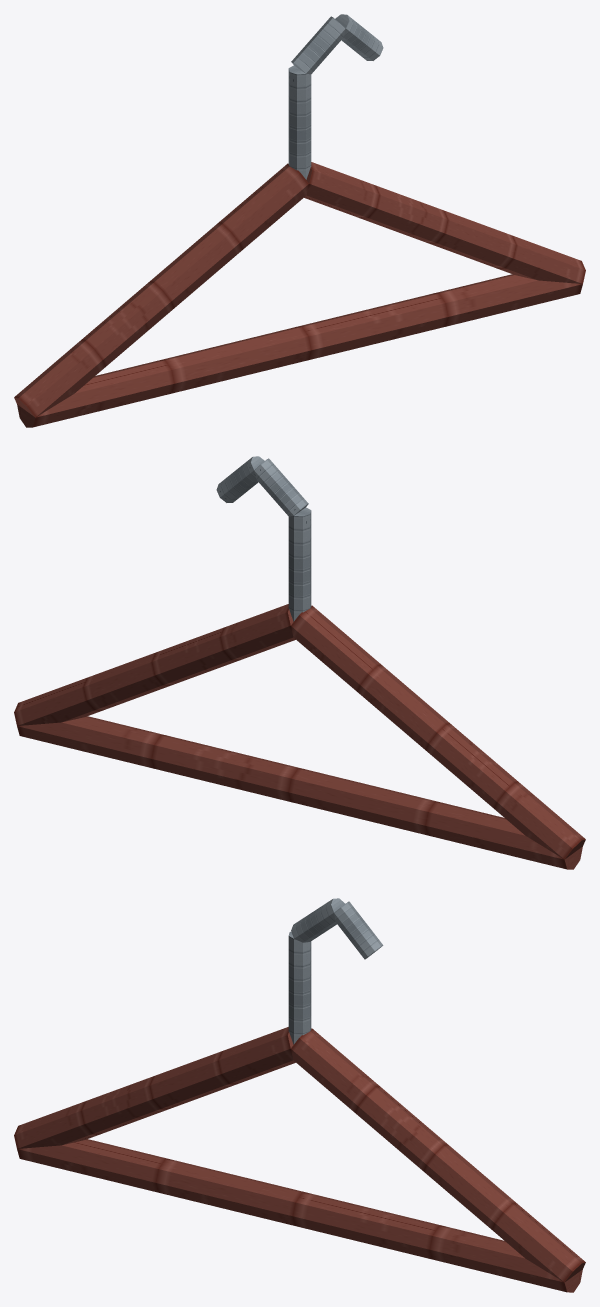
The model's file is MD_84_ClothesHanger.fbx.
The picture shows the model from 3 angles, top to bottom: view 1: azimuth 30°, elevation 25°; view 2: azimuth 150°, elevation 25°; view 3: azimuth 330°, elevation 25°; orthographic projection.
Visible parts, largest first — view 1: MD_84_ClothesHanger_clothes_hanger_2, MD_84_ClothesHanger_clothes_hanger_0, MD_84_ClothesHanger_clothes_hanger_1, MD_84_ClothesHanger_hanger_hook_0, MD_84_ClothesHanger_hanger_hook_1, MD_84_ClothesHanger_hanger_hook_2; view 2: MD_84_ClothesHanger_clothes_hanger_2, MD_84_ClothesHanger_clothes_hanger_0, MD_84_ClothesHanger_clothes_hanger_1, MD_84_ClothesHanger_hanger_hook_0, MD_84_ClothesHanger_hanger_hook_1, MD_84_ClothesHanger_hanger_hook_2; view 3: MD_84_ClothesHanger_clothes_hanger_2, MD_84_ClothesHanger_clothes_hanger_1, MD_84_ClothesHanger_clothes_hanger_0, MD_84_ClothesHanger_hanger_hook_0, MD_84_ClothesHanger_hanger_hook_2, MD_84_ClothesHanger_hanger_hook_1.
Part boxes in pixels (x1=…): MD_84_ClothesHanger_clothes_hanger_2: x1=17, y1=274, x2=582, y2=427; MD_84_ClothesHanger_clothes_hanger_0: x1=14, y1=163, x2=308, y2=417; MD_84_ClothesHanger_clothes_hanger_1: x1=304, y1=162, x2=585, y2=283; MD_84_ClothesHanger_hanger_hook_0: x1=288, y1=65, x2=311, y2=179; MD_84_ClothesHanger_hanger_hook_1: x1=291, y1=16, x2=345, y2=74; MD_84_ClothesHanger_hanger_hook_2: x1=335, y1=14, x2=383, y2=60; MD_84_ClothesHanger_clothes_hanger_2: x1=17, y1=716, x2=582, y2=869; MD_84_ClothesHanger_clothes_hanger_0: x1=291, y1=605, x2=585, y2=859; MD_84_ClothesHanger_clothes_hanger_1: x1=14, y1=604, x2=295, y2=725; MD_84_ClothesHanger_hanger_hook_0: x1=288, y1=507, x2=311, y2=621; MD_84_ClothesHanger_hanger_hook_1: x1=254, y1=458, x2=308, y2=516; MD_84_ClothesHanger_hanger_hook_2: x1=216, y1=456, x2=264, y2=502; MD_84_ClothesHanger_clothes_hanger_2: x1=17, y1=1139, x2=582, y2=1292; MD_84_ClothesHanger_clothes_hanger_1: x1=291, y1=1028, x2=585, y2=1282; MD_84_ClothesHanger_clothes_hanger_0: x1=14, y1=1027, x2=295, y2=1148; MD_84_ClothesHanger_hanger_hook_0: x1=288, y1=931, x2=311, y2=1044; MD_84_ClothesHanger_hanger_hook_2: x1=334, y1=901, x2=383, y2=959; MD_84_ClothesHanger_hanger_hook_1: x1=291, y1=898, x2=345, y2=942.
Size of the model in its own units: 0.4941 by 0.2808 by 0.028.
2 materials, 2 textured.
